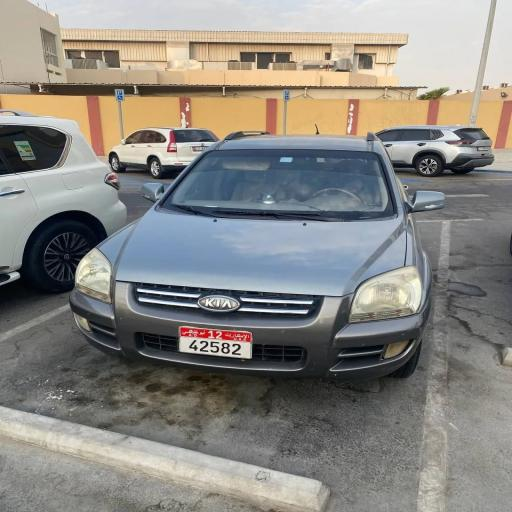license-plates: (179, 326, 252, 359), (192, 146, 209, 151), (477, 147, 489, 151)
